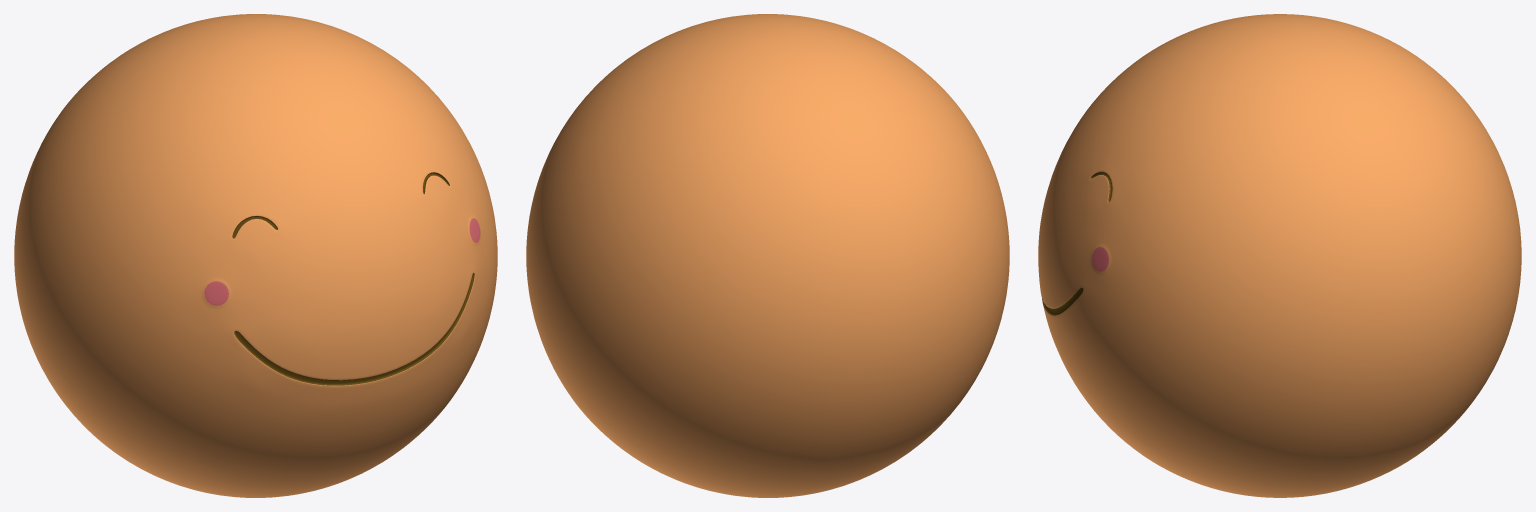
The model's file is happy.fbx.
3 renders of one model, left to right at view 1: azimuth 30°, elevation 25°; view 2: azimuth 150°, elevation 25°; view 3: azimuth 270°, elevation 25°, orthographic.
Visible parts, largest first — view 1: Smiling_face_with_Smiling_eye_Emoji; view 2: Smiling_face_with_Smiling_eye_Emoji; view 3: Smiling_face_with_Smiling_eye_Emoji.
Boxes of the visible parts, <box> form: Smiling_face_with_Smiling_eye_Emoji: <box>14,14,497,497</box>; Smiling_face_with_Smiling_eye_Emoji: <box>526,14,1009,497</box>; Smiling_face_with_Smiling_eye_Emoji: <box>1038,14,1521,497</box>.
Size of the model in its own units: 49.48 by 49.59 by 49.49.
